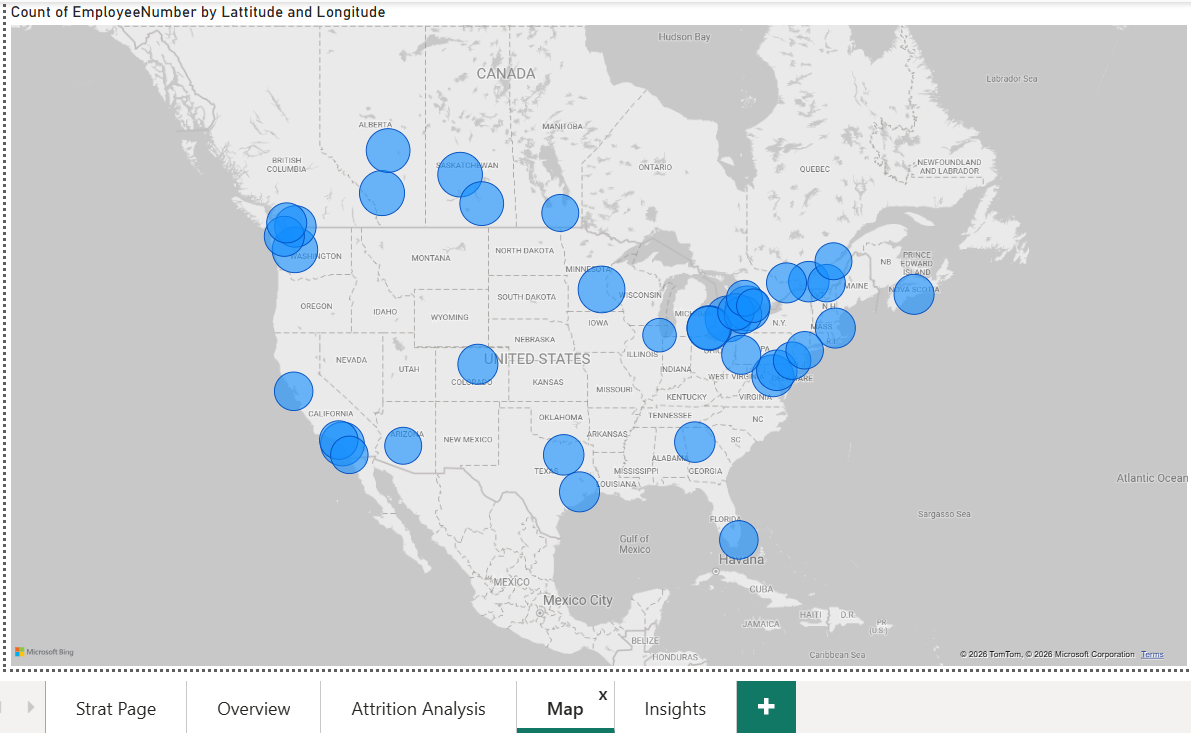

Layout of this report page (visuals, bound fields, positions):
{"tool":"powerbi","page":{"name":"Map","canvas":[1280,720],"ordinal":3},"visuals":[{"type":"map","fields":{"Y":["GEO_data.Lattitude"],"X":["GEO_data.Longitude"],"Size":["CountNonNull(HRIS.EmployeeNumber)"]},"box":[0,0,1280,721],"z":0}]}

Visuals, with their boxes on the page's 1280x720 design canvas (x1, y1, x2, y2). These are canvas units, not pixel positions in the 1191x733 screenshot, which may show the page scaled, cropped or inside an application window:
map - GEO_data.Lattitude x GEO_data.Longitude: rect(0, 0, 1280, 721)
